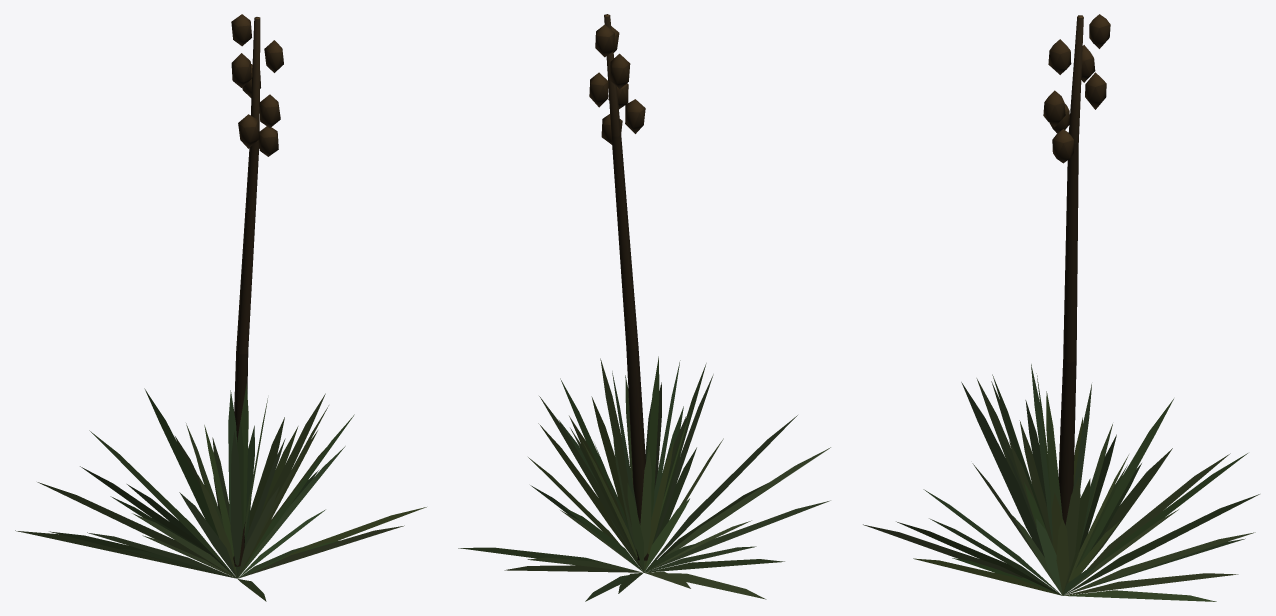
Rendered from SM_Yucca.fbx.
3 views of the same model, side by side, from view 1: azimuth 30°, elevation 25°; view 2: azimuth 150°, elevation 25°; view 3: azimuth 270°, elevation 25° (orthographic). The views are drawn at different scales.
Visible parts, largest first — view 1: SM_Yucca; view 2: SM_Yucca; view 3: SM_Yucca.
Boxes of the visible parts, left/top/right/bottom form: SM_Yucca: left=15, top=14, right=426, bottom=601; SM_Yucca: left=458, top=14, right=830, bottom=601; SM_Yucca: left=863, top=14, right=1259, bottom=601.
Bounding box in the file's own units: 1.04 × 1.85 × 1.13.
